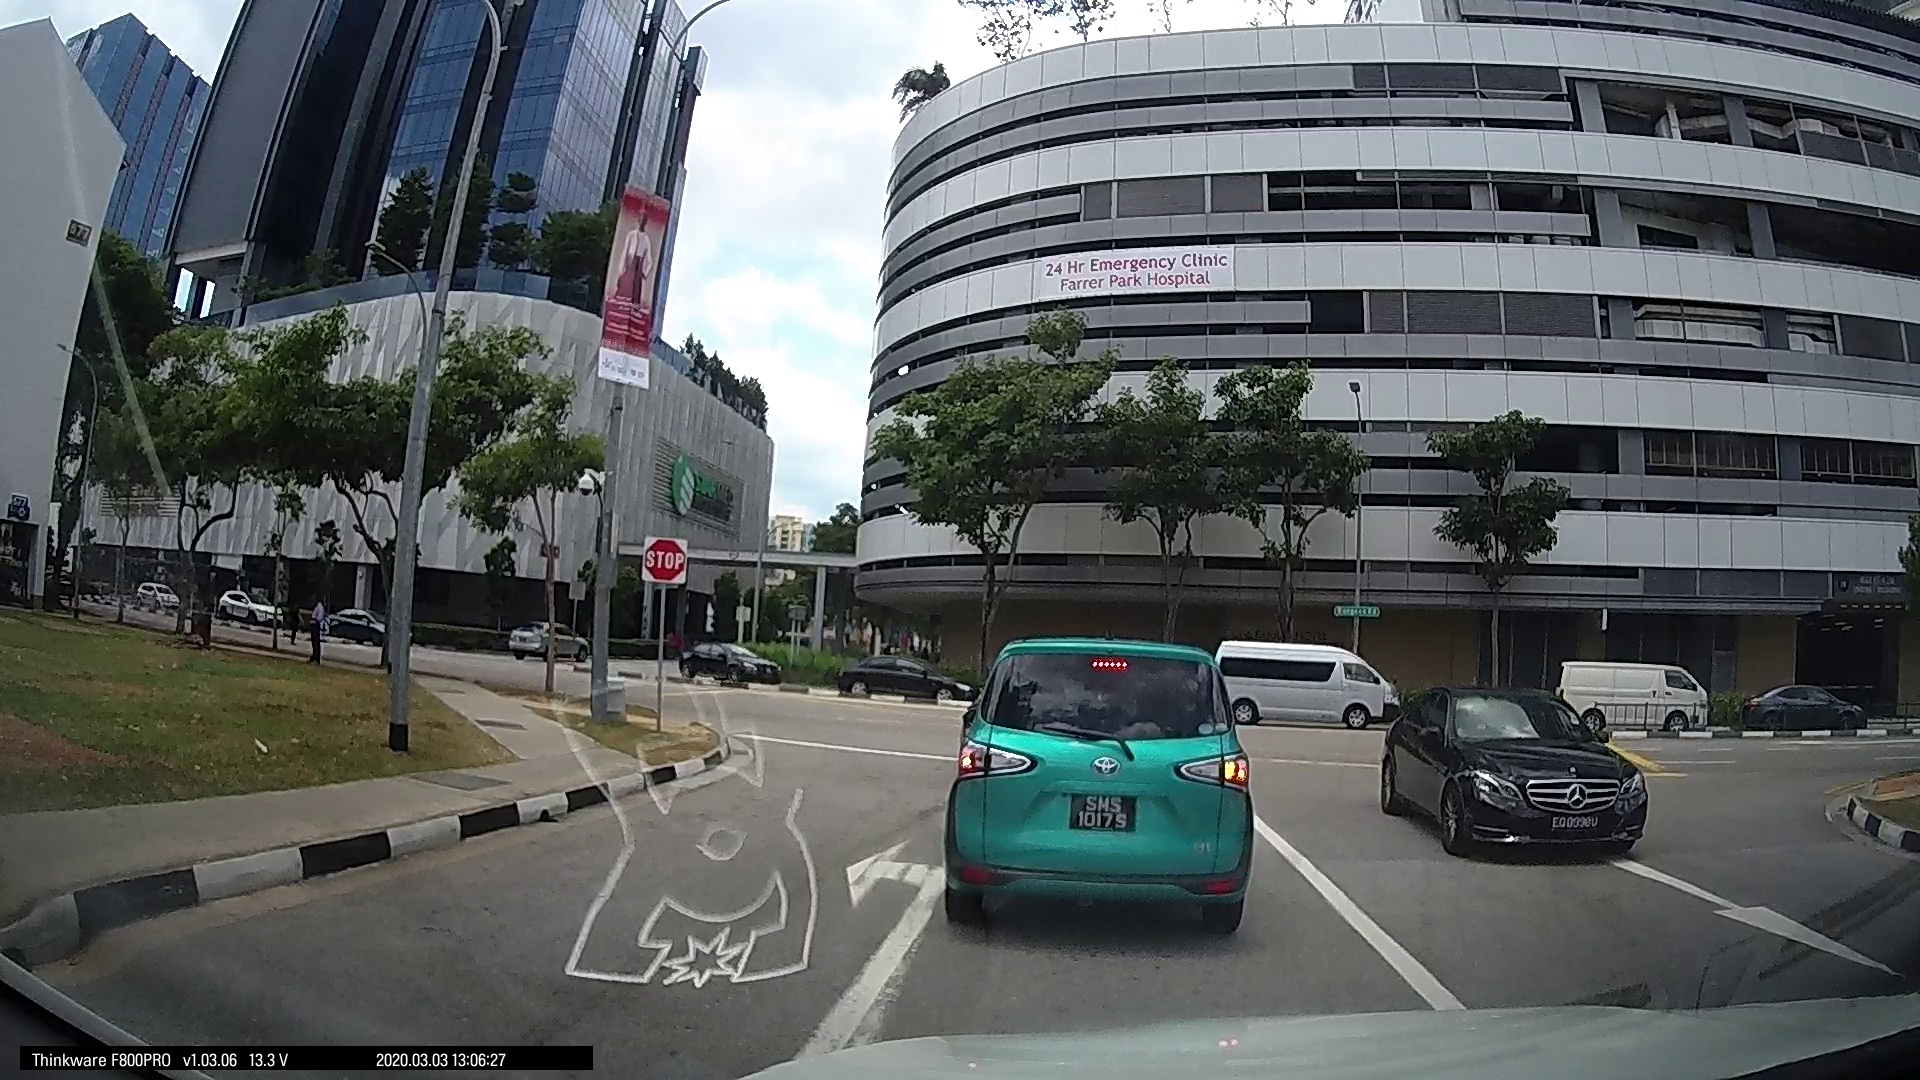Light Vehicle: (934, 622, 1255, 938), (1375, 679, 1648, 866), (1220, 637, 1394, 738), (1547, 653, 1708, 737), (1741, 678, 1866, 737), (836, 647, 959, 698), (675, 633, 779, 683)
